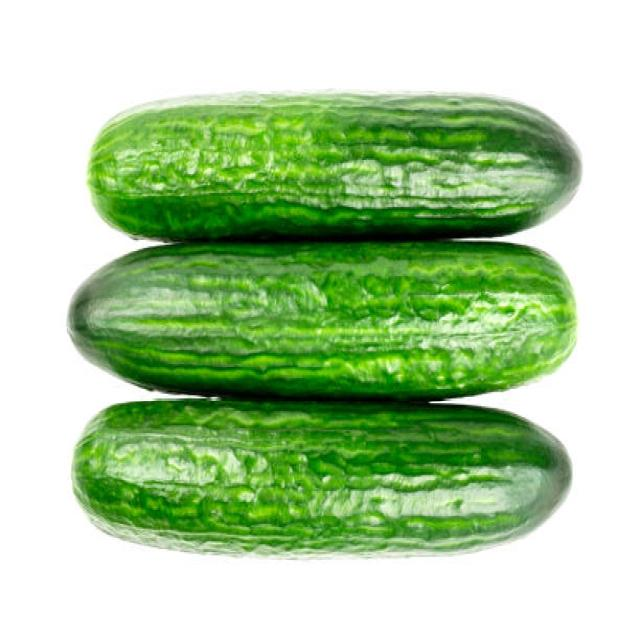cucumber: (69, 396, 573, 554), (64, 241, 576, 395), (88, 90, 582, 238)
